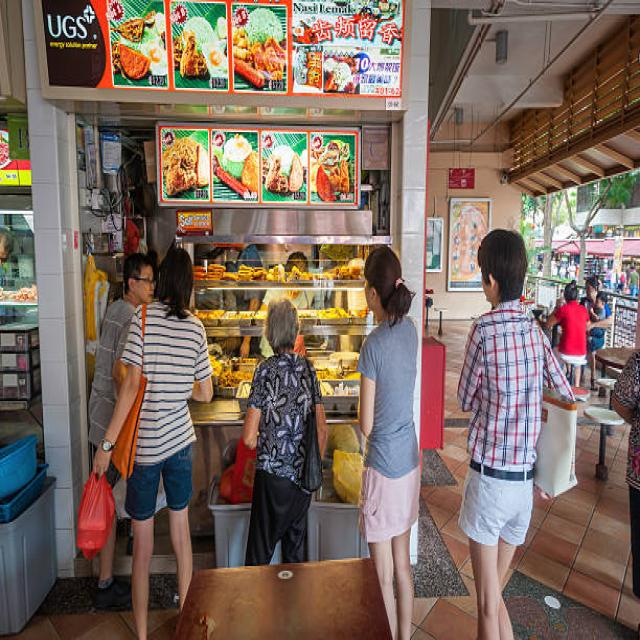Emperan: (9, 0, 443, 640)
